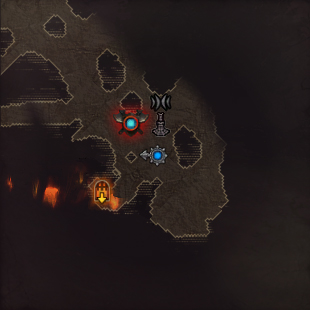Exit: (94, 178, 112, 204)
